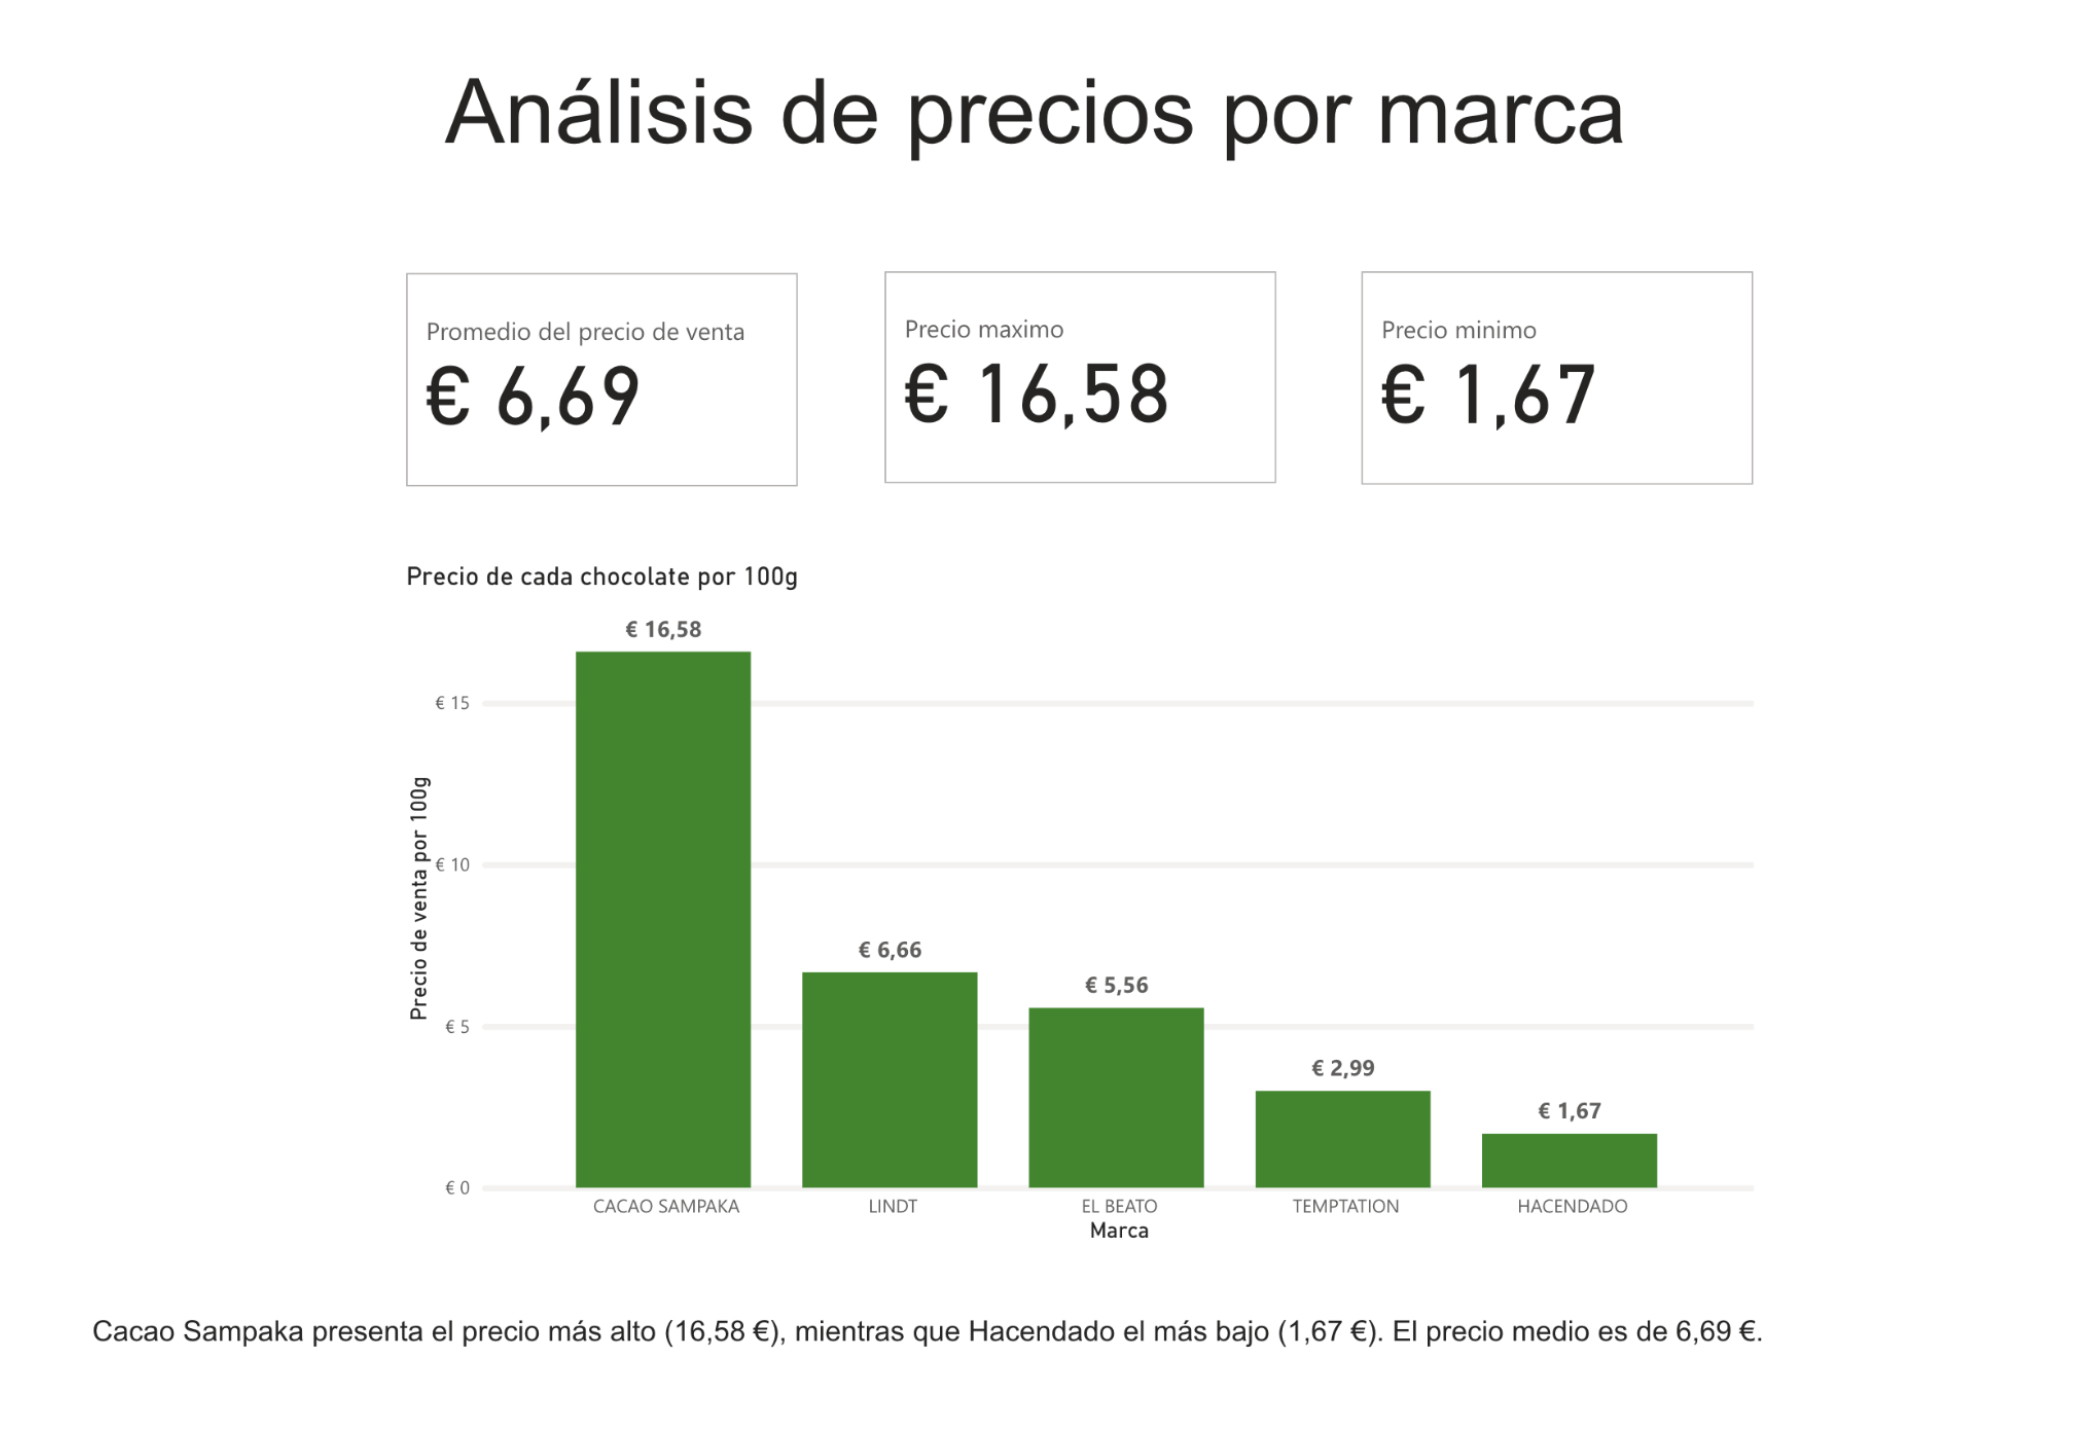

This screenshot's page, from the dashboard's own definition file:
{"tool":"powerbi","page":{"name":"Producto","canvas":[1280,950],"ordinal":1},"visuals":[{"type":"clusteredColumnChart","title":"Precio de cada chocolate por 100g","fields":{"Y":["Sum(chocolate_dubai_tabla_final.precio_venta_100g)"],"Category":["chocolate_dubai_tabla_final.marca"]},"box":[204.9,383.4,887.7,446.8],"z":0},{"type":"cardVisual","fields":{"Data":["Avg(chocolate_dubai_tabla_final.precio_venta_100g)"]},"box":[204.9,189.3,266,149.7],"z":1000},{"type":"cardVisual","fields":{"Data":["Max(chocolate_dubai_tabla_final.precio_venta_100g)"]},"box":[516.3,188.1,266,148.5],"z":2000},{"type":"textbox","box":[0,868.5,1124.9,81.5],"z":3000},{"type":"cardVisual","fields":{"Data":["Min(chocolate_dubai_tabla_final.precio_venta_100g)"]},"box":[826.6,188.1,266,149.7],"z":4000},{"type":"textbox","box":[230,50.3,827.8,77.9],"z":5000}]}

Visuals, with their boxes on the page's 1280x950 design canvas (x1, y1, x2, y2). These are canvas units, not pixel positions in the 2082x1430 screenshot, which may show the page scaled, cropped or inside an application window:
"Precio de cada chocolate por 100g" clusteredColumnChart: x1=205 y1=383 x2=1093 y2=830
cardVisual - Avg(chocolate_dubai_tabla_final.precio_venta_100g): x1=205 y1=189 x2=471 y2=339
cardVisual - Max(chocolate_dubai_tabla_final.precio_venta_100g): x1=516 y1=188 x2=782 y2=337
textbox: x1=0 y1=868 x2=1125 y2=950
cardVisual - Min(chocolate_dubai_tabla_final.precio_venta_100g): x1=827 y1=188 x2=1093 y2=338
textbox: x1=230 y1=50 x2=1058 y2=128
